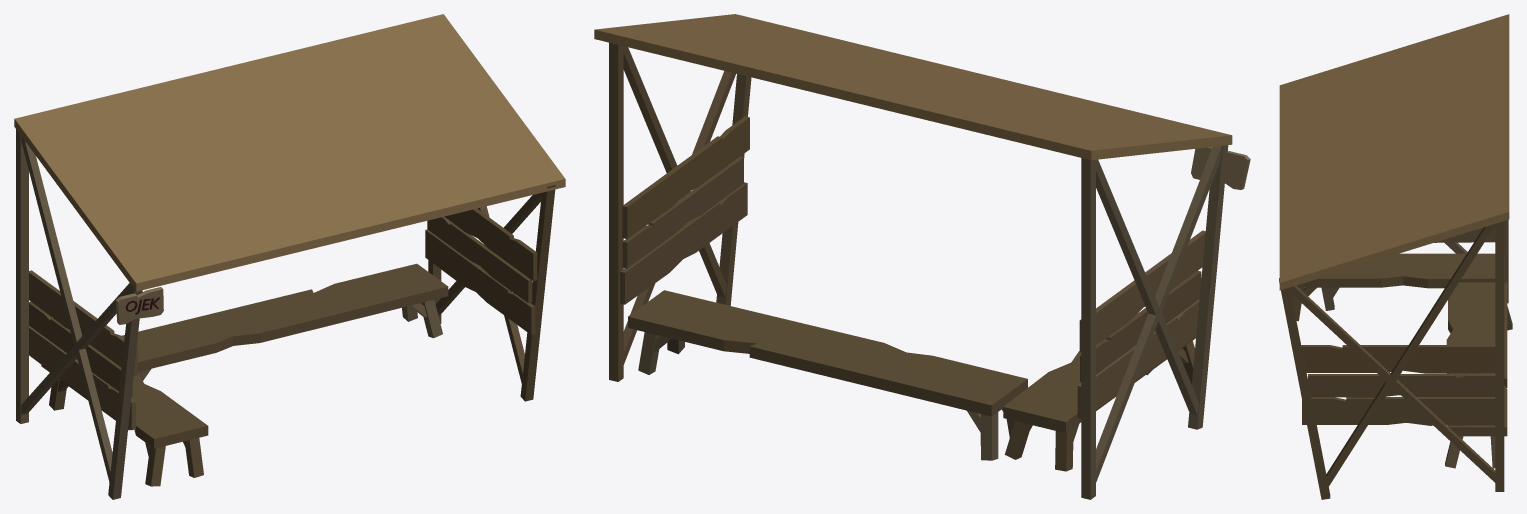
File: ojek.fbx
3 views of the same model, side by side, from view 1: azimuth 30°, elevation 25°; view 2: azimuth 150°, elevation 25°; view 3: azimuth 270°, elevation 25° (orthographic). The views are drawn at different scales.
Parts seen in each view (by area): view 1: Shack; view 2: Shack; view 3: Shack.
Boxes of the visible parts, x1,y1,x2,y2 form: Shack: (14, 14, 565, 499); Shack: (594, 14, 1250, 499); Shack: (1279, 14, 1512, 499).
Size of the model in its own units: 321 by 214 by 154.
